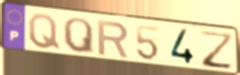4: (169, 27, 196, 66)
5: (135, 23, 161, 62)
Q: (27, 12, 62, 52), (61, 16, 96, 56)
R: (97, 18, 131, 59)
Z: (199, 29, 235, 72)
